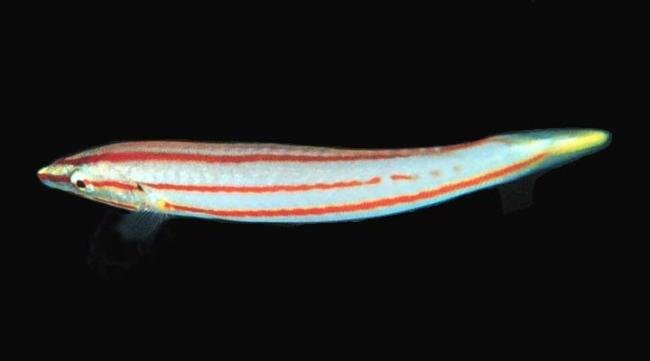fish: (38, 128, 614, 224)
